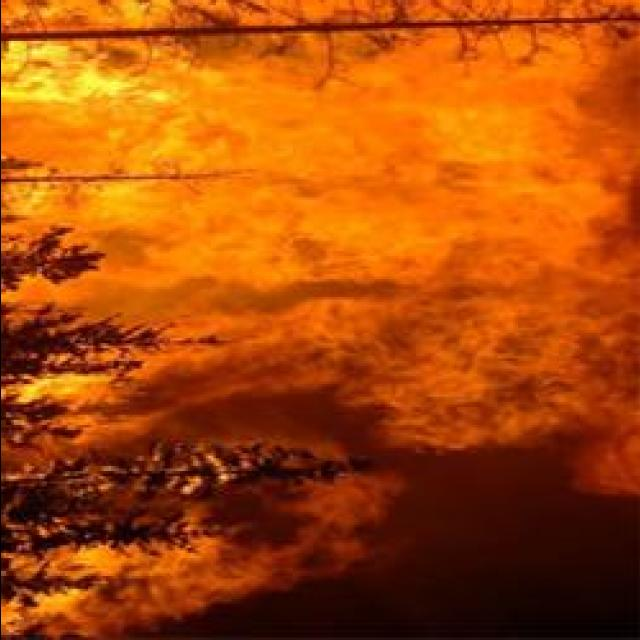fire: (1, 47, 142, 103), (15, 375, 97, 405)
